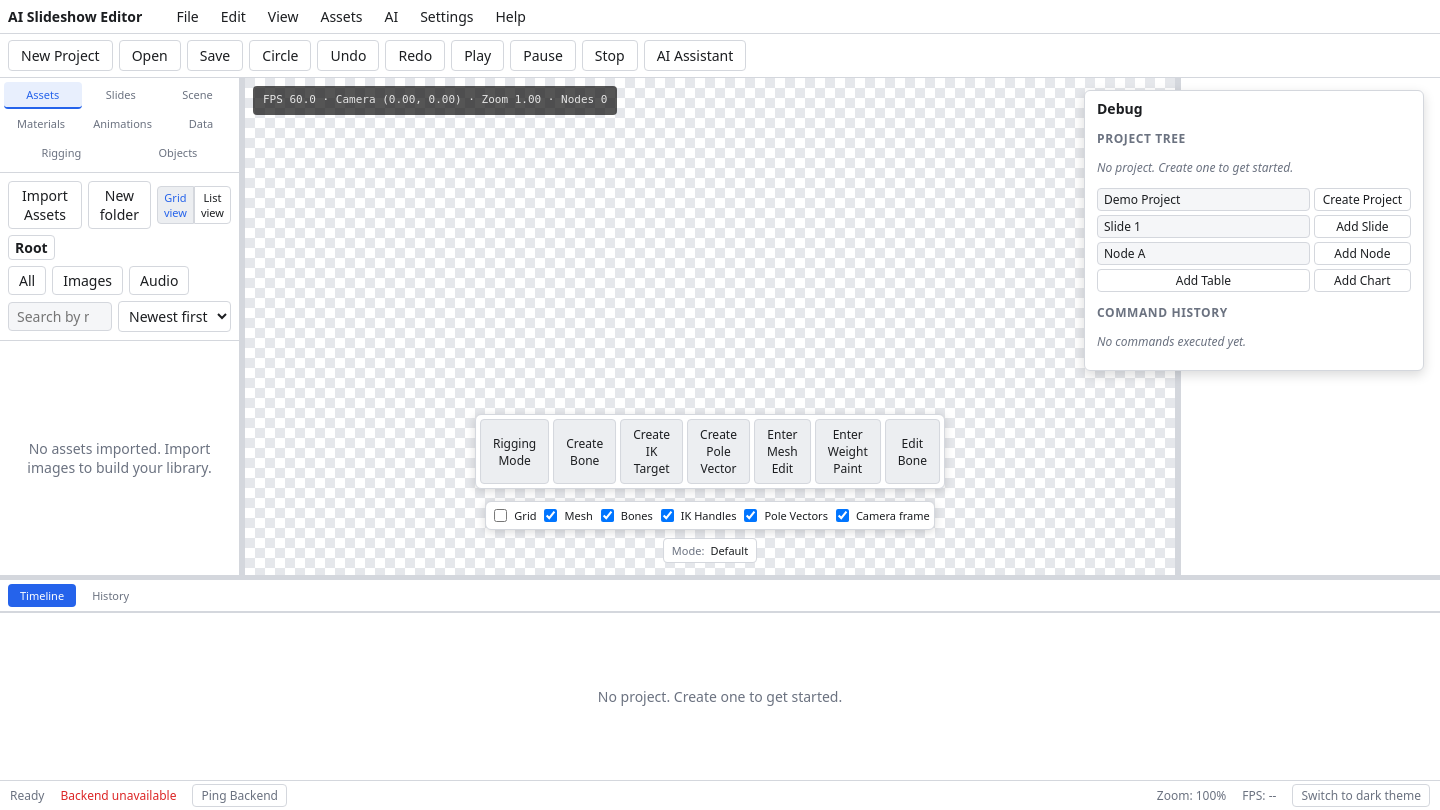
editor shell › switches between the Assets and Slides sidebar tabs
The image size is (1440, 810).
Click the button "Slides".
click(121, 96)  # box [84,82,158,109]
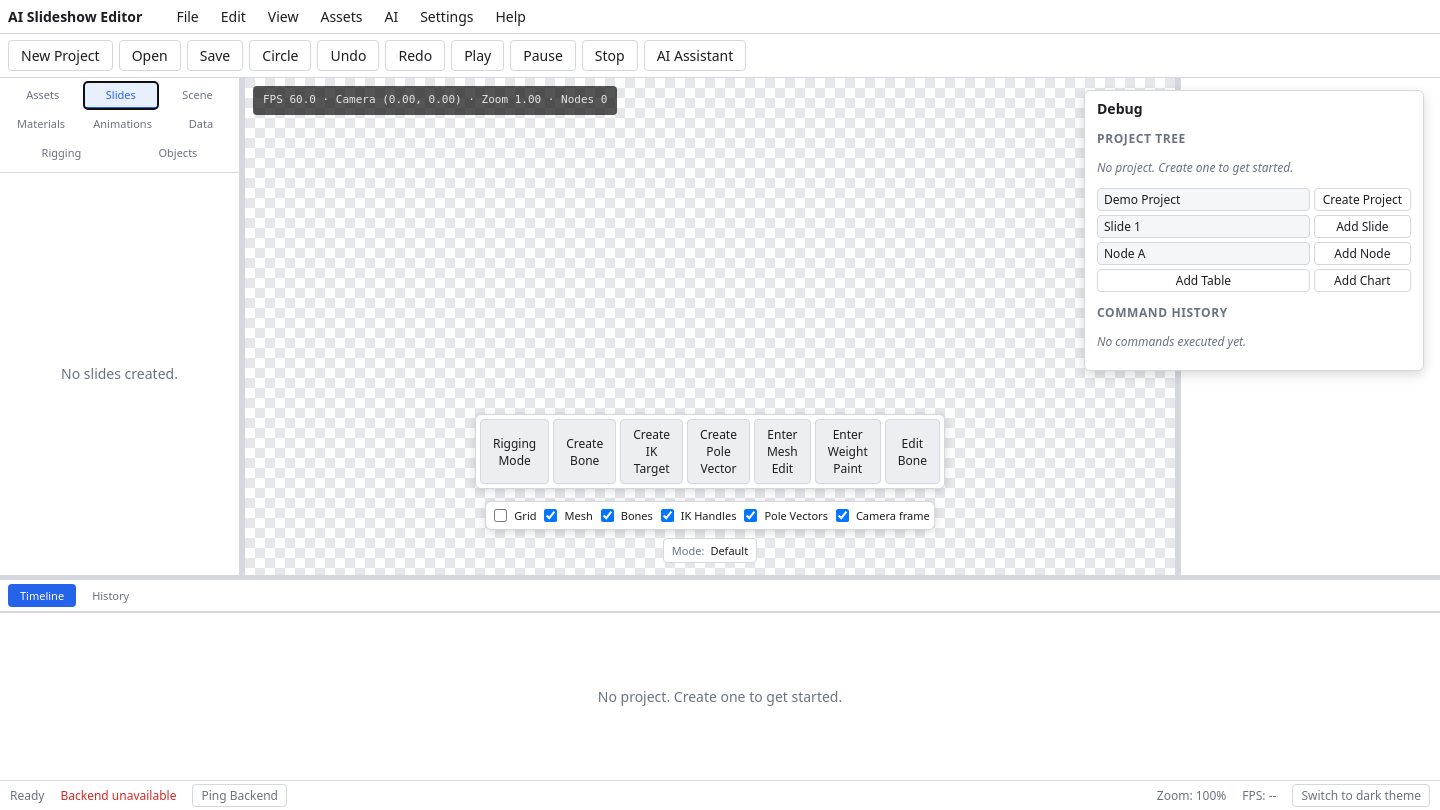
Expected: the text "No slides created." is shown, [61,364,178,383]
Expected: the text "No assets imported. Import images to build your library." is gone
Click the 2nd button "Assets".
click(43, 96)  # box [4,82,82,109]
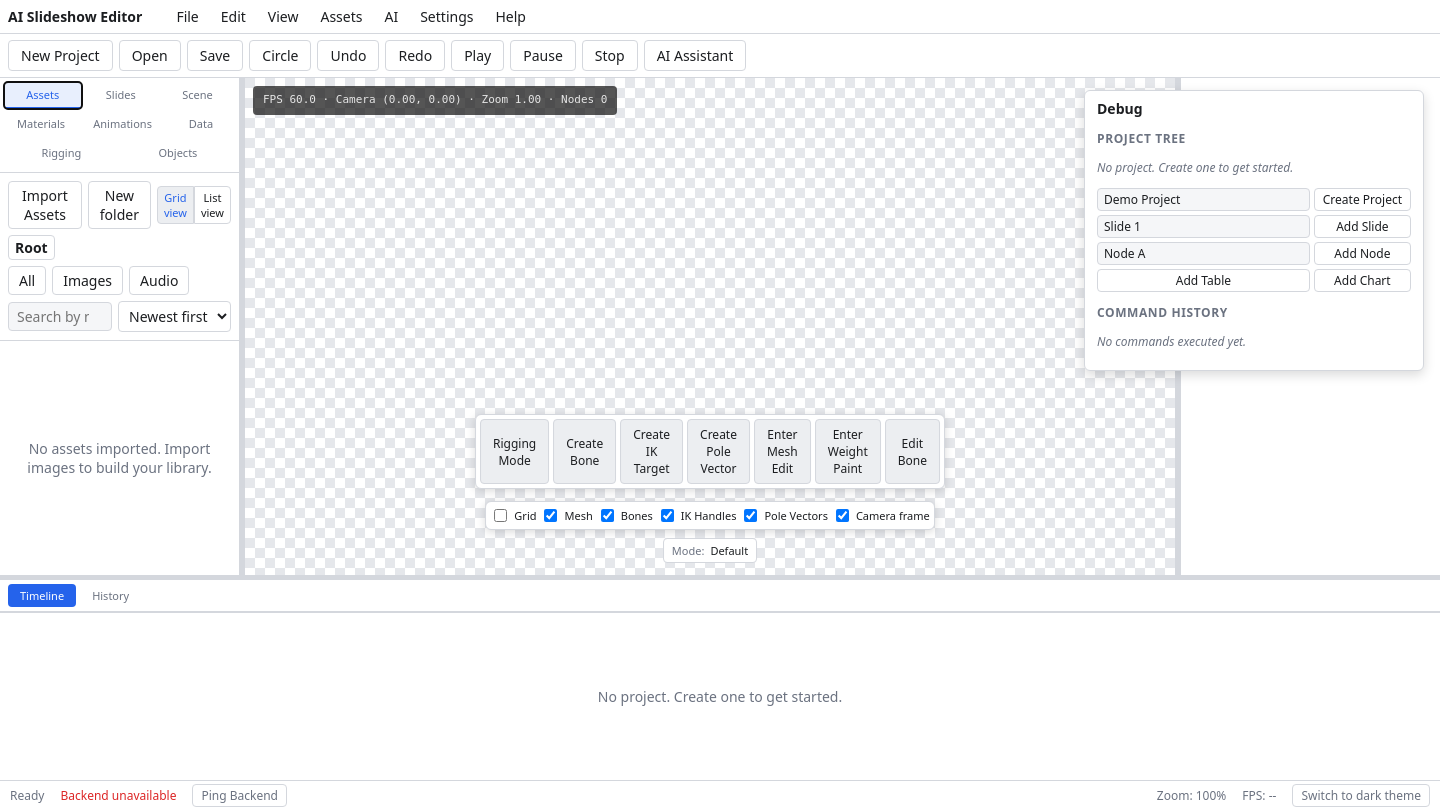
Expected: the text "No assets imported. Import images to build your library." is shown, [24,439,215,477]
